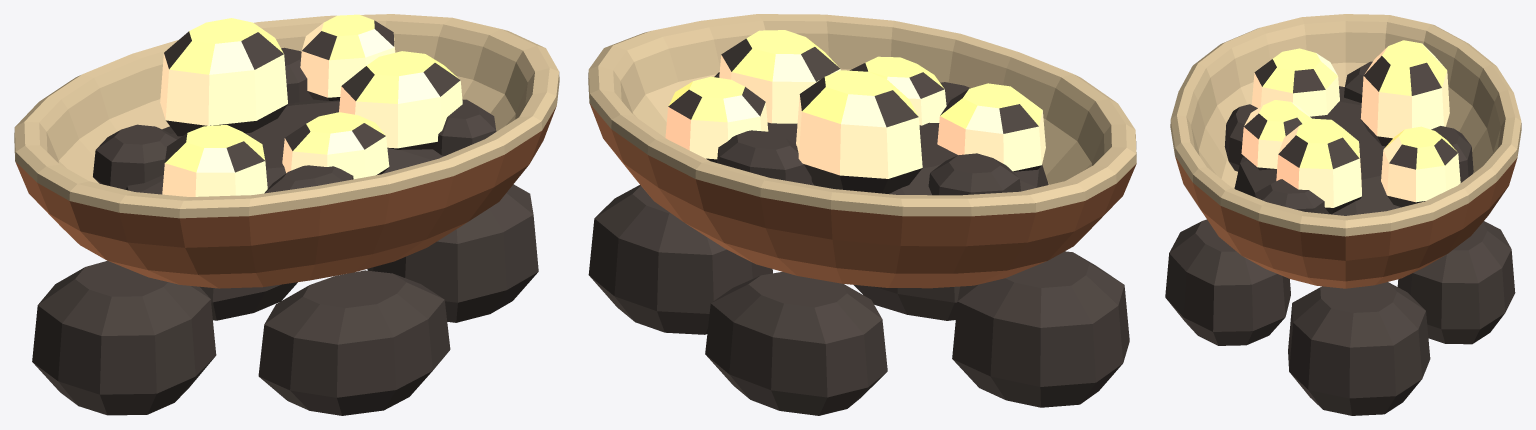
Rendered from firePit.glb.
3 renders of one model, left to right at view 1: azimuth 30°, elevation 25°; view 2: azimuth 150°, elevation 25°; view 3: azimuth 270°, elevation 25°, orthographic. The views are drawn at different scales.
Parts seen in each view (by area): view 1: firePit; view 2: firePit; view 3: firePit.
Part boxes in pixels (x1,y1,x2,y2): firePit: [14, 14, 559, 415]; firePit: [588, 14, 1136, 415]; firePit: [1165, 14, 1521, 415].
Bounding box in the file's own units: 1 × 0.55 × 0.7.
1 material, 1 textured.
